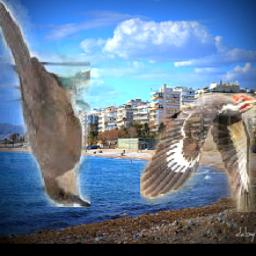Cuckoo: (0, 0, 90, 207)
Woodpecker: (141, 94, 256, 213)
